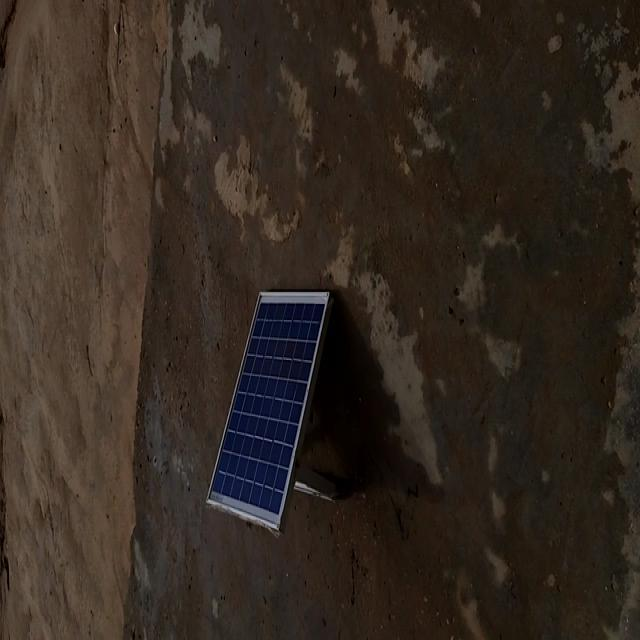Normal Solar Panel: (208, 292, 333, 532)
